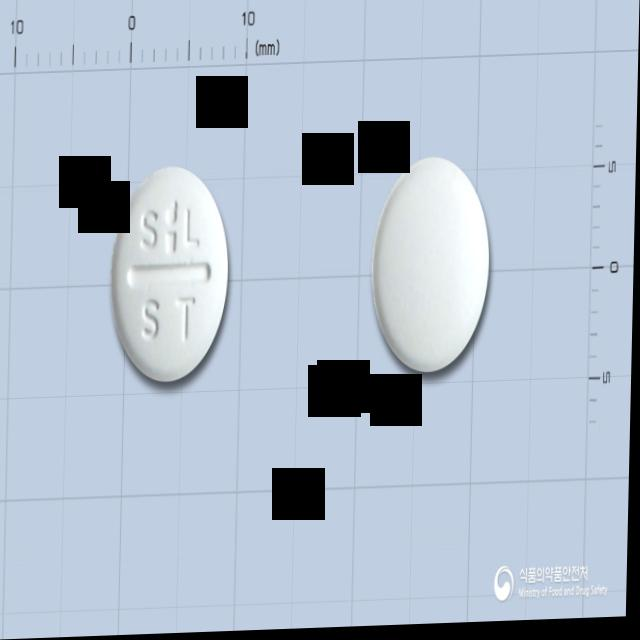Septrin: (371, 156, 495, 377), (110, 165, 233, 386)
